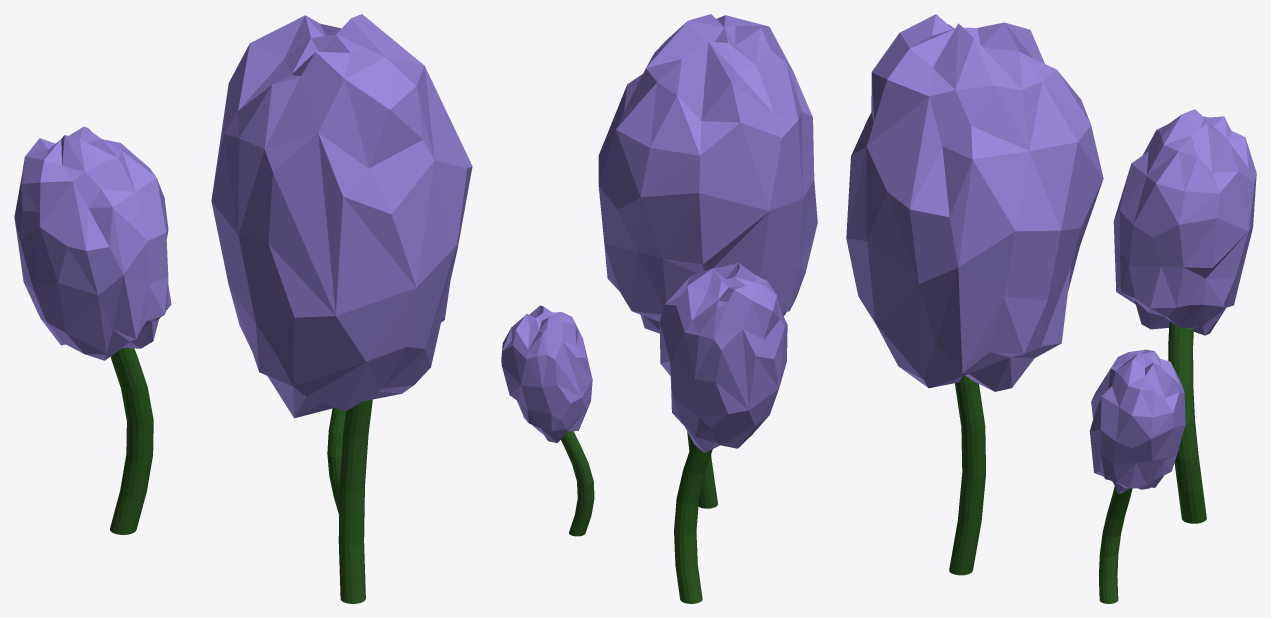
Rendered from Pot_1c_plant.fbx.
The picture shows the model from 3 angles, left to right: view 1: azimuth 30°, elevation 25°; view 2: azimuth 150°, elevation 25°; view 3: azimuth 270°, elevation 25°; orthographic projection. The views are drawn at different scales.
Visible parts, largest first — view 1: Sphere.002; view 2: Sphere.002; view 3: Sphere.002.
Boxes of the visible parts, <box> form: Sphere.002: <box>14,14,472,603</box>; Sphere.002: <box>501,14,817,603</box>; Sphere.002: <box>846,14,1256,603</box>.
Size of the model in its own units: 76.92 by 122 by 83.39.
